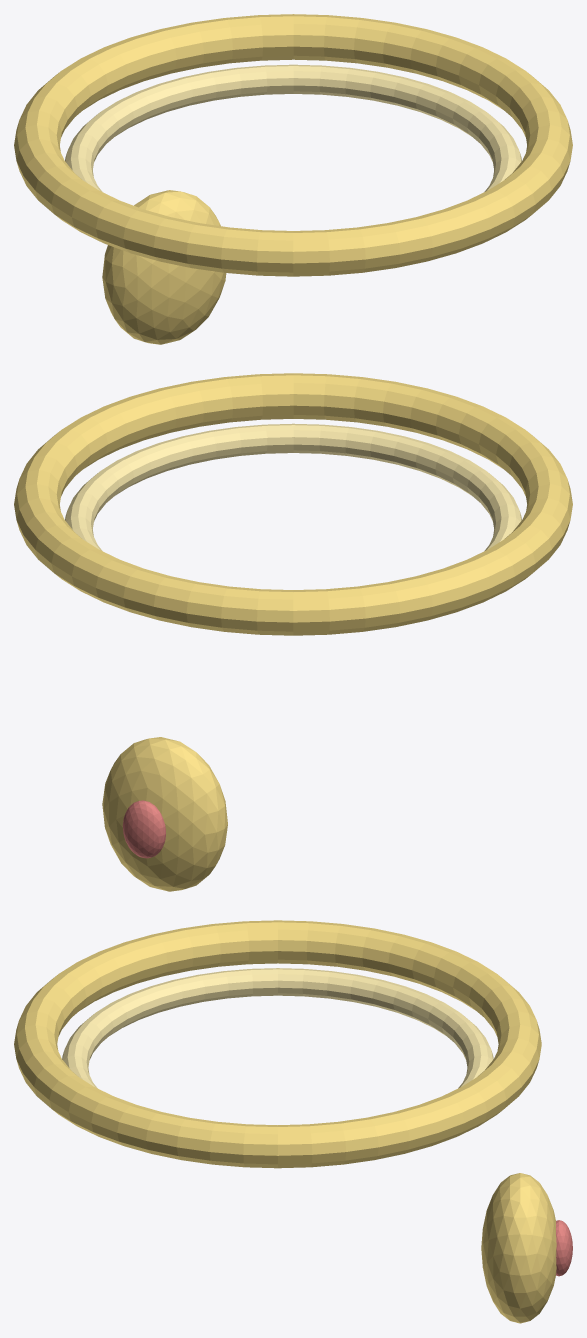
The model's file is gold_chain.glb.
The picture shows the model from 3 angles, top to bottom: view 1: azimuth 30°, elevation 25°; view 2: azimuth 150°, elevation 25°; view 3: azimuth 270°, elevation 25°; orthographic projection. The views are drawn at different scales.
Visible parts, largest first — view 1: gold_chain_0, gold_chain_1, gold_chain_2; view 2: gold_chain_0, gold_chain_1, gold_chain_2, gold_chain_3; view 3: gold_chain_0, gold_chain_1, gold_chain_2, gold_chain_3.
Part boxes in pixels (x1,y1,x2,y2): gold_chain_0: (14, 14, 572, 276); gold_chain_1: (65, 64, 521, 191); gold_chain_2: (102, 190, 226, 344); gold_chain_0: (14, 373, 572, 635); gold_chain_1: (65, 423, 521, 550); gold_chain_2: (102, 737, 227, 891); gold_chain_3: (122, 800, 165, 858); gold_chain_0: (14, 920, 541, 1168); gold_chain_1: (62, 968, 493, 1088); gold_chain_2: (481, 1173, 556, 1323); gold_chain_3: (556, 1220, 572, 1276).
Bounding box in the file's own units: 0.61 × 0.375 × 0.646.
